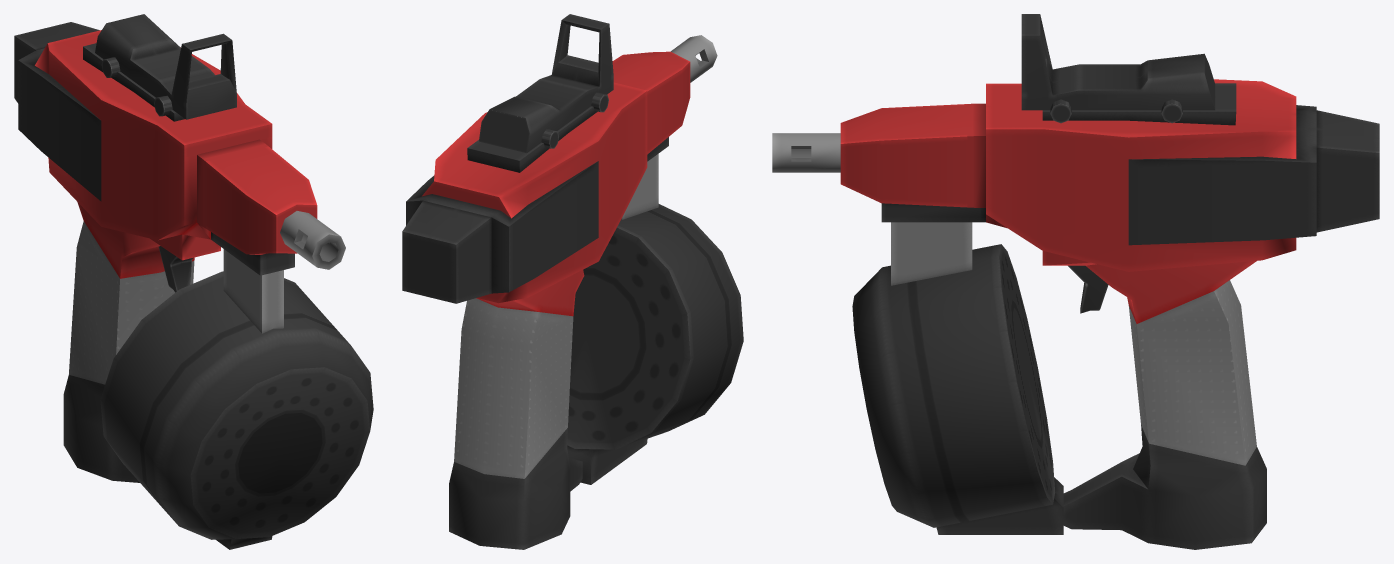
Rendered from NailGun.fbx.
3 views of the same model, side by side, from view 1: azimuth 30°, elevation 25°; view 2: azimuth 150°, elevation 25°; view 3: azimuth 270°, elevation 25° (orthographic). The views are drawn at different scales.
Parts seen in each view (by area): view 1: NailGunbody, DrumClip, ReflexSight; view 2: NailGunbody, DrumClip, ReflexSight; view 3: NailGunbody, DrumClip, ReflexSight.
Boxes of the visible parts, <box> form: NailGunbody: <box>14,22,345,482</box>; DrumClip: <box>100,249,373,549</box>; ReflexSight: <box>95,14,236,119</box>; NailGunbody: <box>402,35,717,549</box>; DrumClip: <box>567,154,743,484</box>; ReflexSight: <box>479,14,613,153</box>; NailGunbody: <box>772,79,1379,549</box>; DrumClip: <box>852,222,1063,534</box>; ReflexSight: <box>1021,14,1215,123</box>.
Size of the model in its own units: 21.2 by 43.93 by 48.42.
